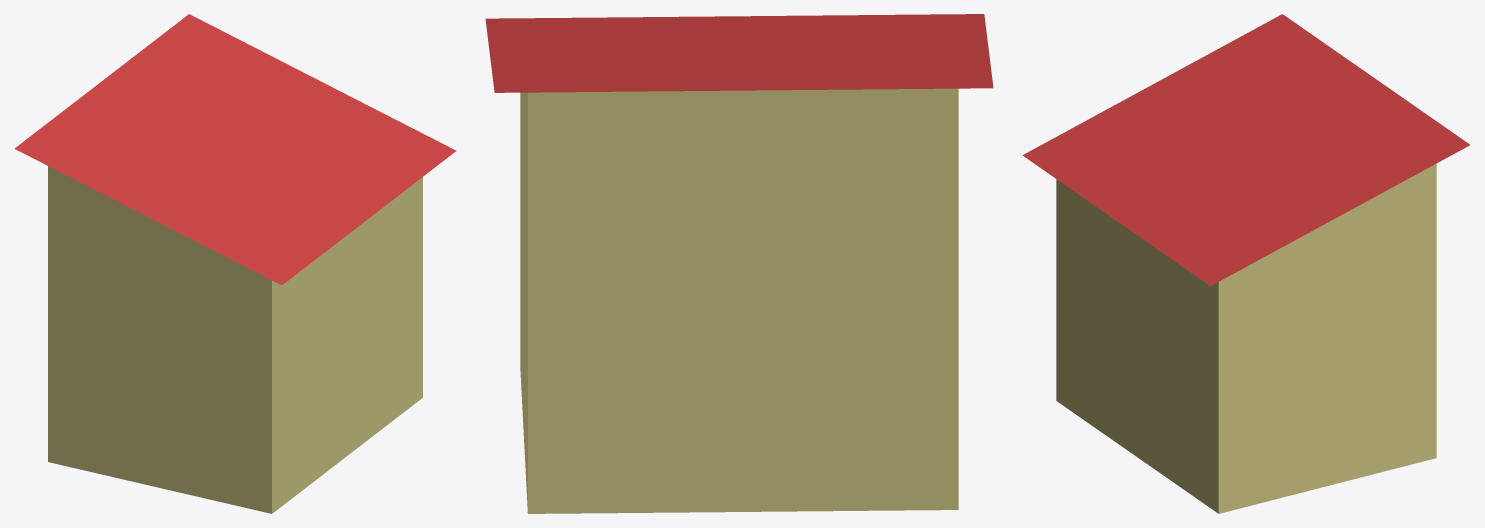
The picture shows the model from 3 angles, left to right: view 1: azimuth 30°, elevation 25°; view 2: azimuth 150°, elevation 25°; view 3: azimuth 270°, elevation 25°; orthographic projection. The views are drawn at different scales.
Size of the model in its own units: 9.47 by 9.07 by 7.07.
